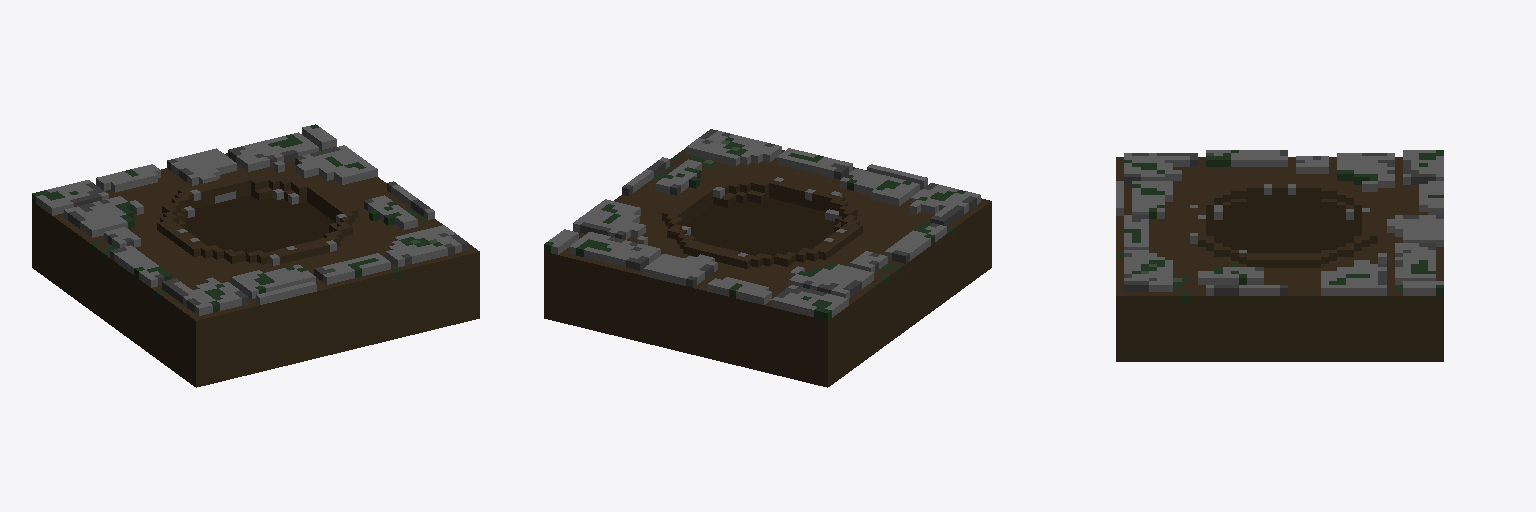
The picture shows the model from 3 angles: view 1: azimuth 30°, elevation 25°; view 2: azimuth 150°, elevation 25°; view 3: azimuth 270°, elevation 25°; orthographic projection.
Parts seen in each view (by area): view 1: object 1; view 2: object 1; view 3: object 1.
Boxes of the visible parts, <box> form: object 1: <box>32,124,479,387</box>; object 1: <box>544,129,991,387</box>; object 1: <box>1116,150,1443,361</box>.
Size of the model in its own units: 4 by 1 by 4.
Materials: 1 (1 with a texture image).